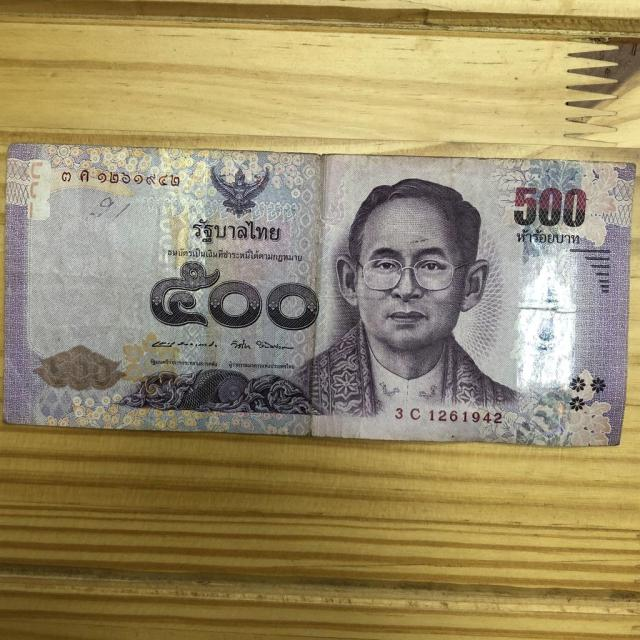THAI500: (5, 143, 634, 446)
